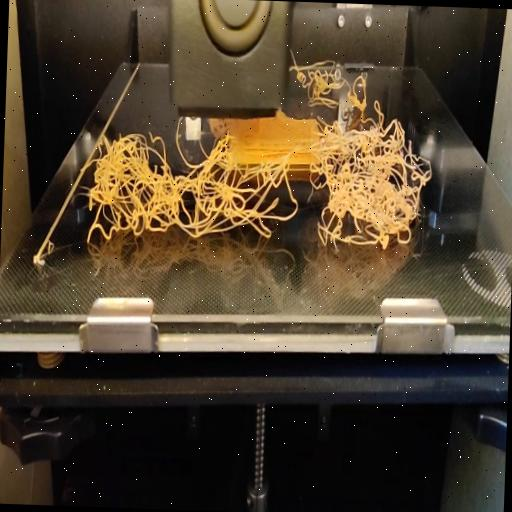spaghetti: (78, 110, 434, 250), (287, 48, 397, 125)
